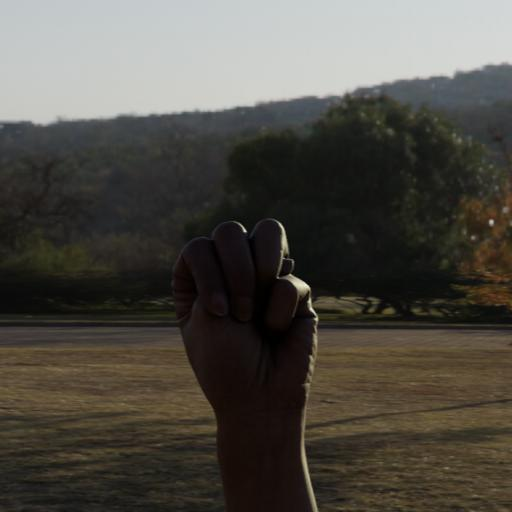M: (165, 209, 333, 512)
